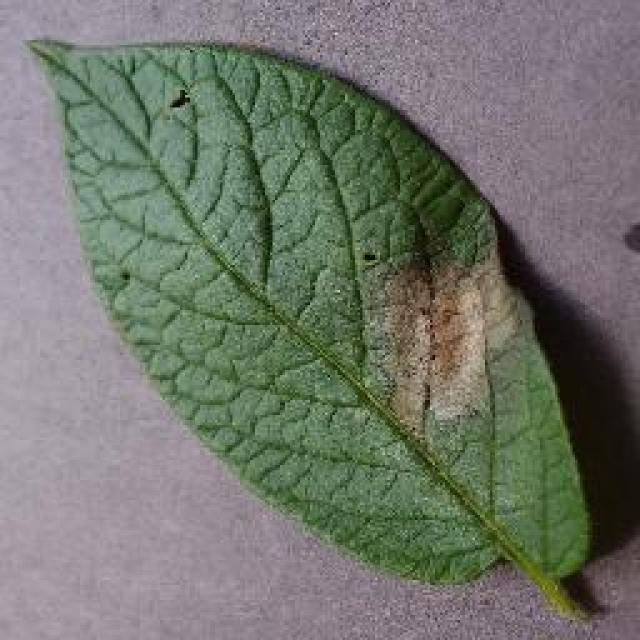late_blight: (20, 30, 598, 610)
